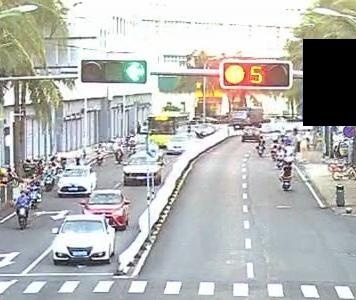greenleft: (123, 61, 146, 84)
red: (223, 63, 246, 86)
redtime: (248, 64, 268, 84)
